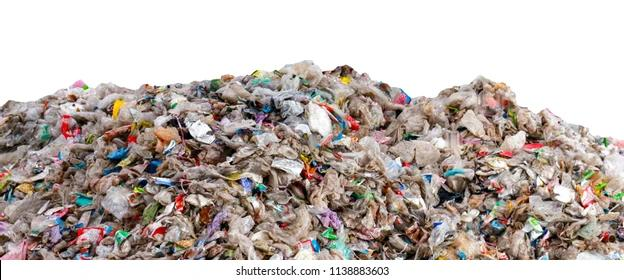garbage: (8, 67, 624, 259)
